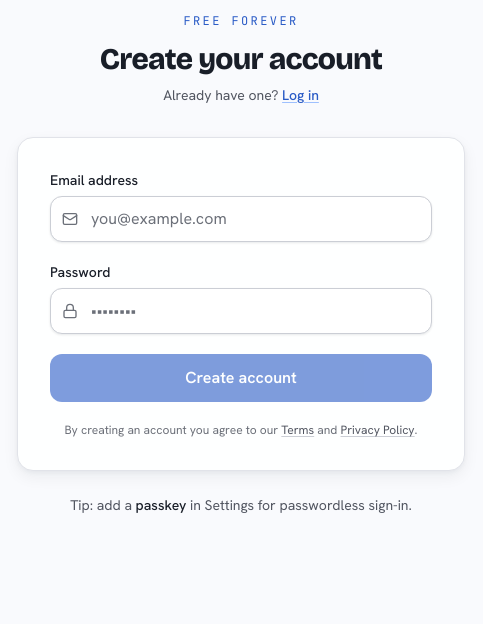
Register Page › says how long to wait when sign-up is rate limited
In the field labelled "Email address": (241, 219) left=50, top=196, right=432, bottom=242, type "new@example.com"
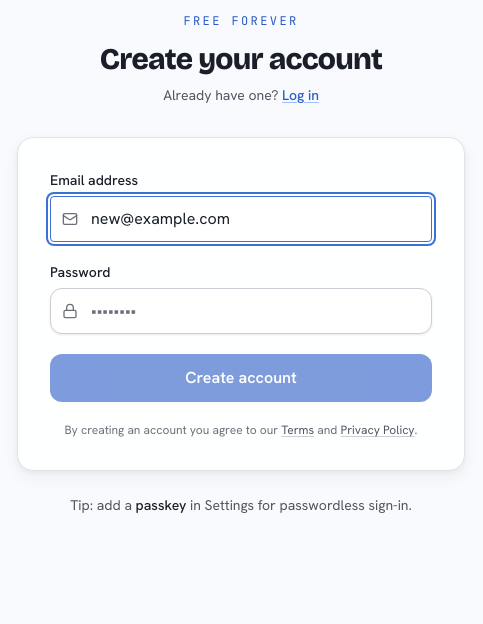
In the password field labelled "Password": (241, 311) left=50, top=288, right=432, bottom=334, type "password123"
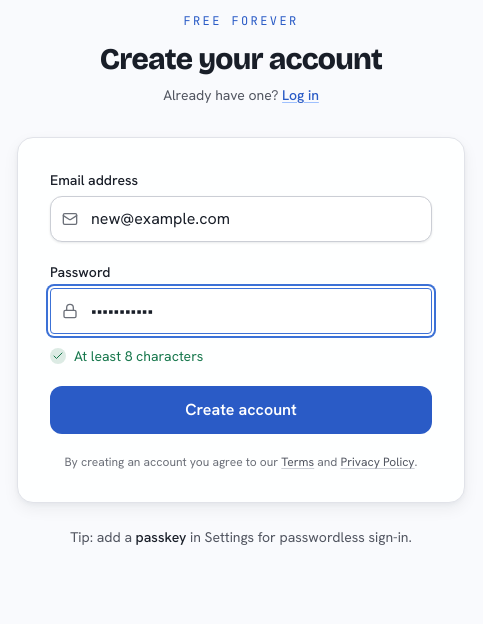
Click the button "Create account": (241, 410) left=50, top=386, right=432, bottom=434
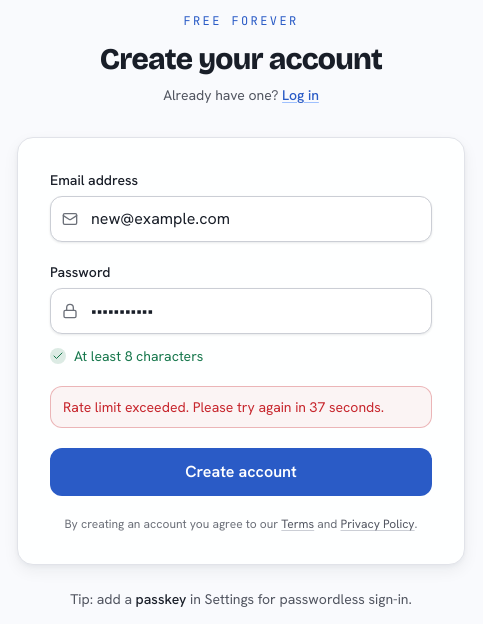
Expected: the text "Rate limit exceeded. Please try again in 37 seconds." is shown, left=50, top=386, right=432, bottom=428
